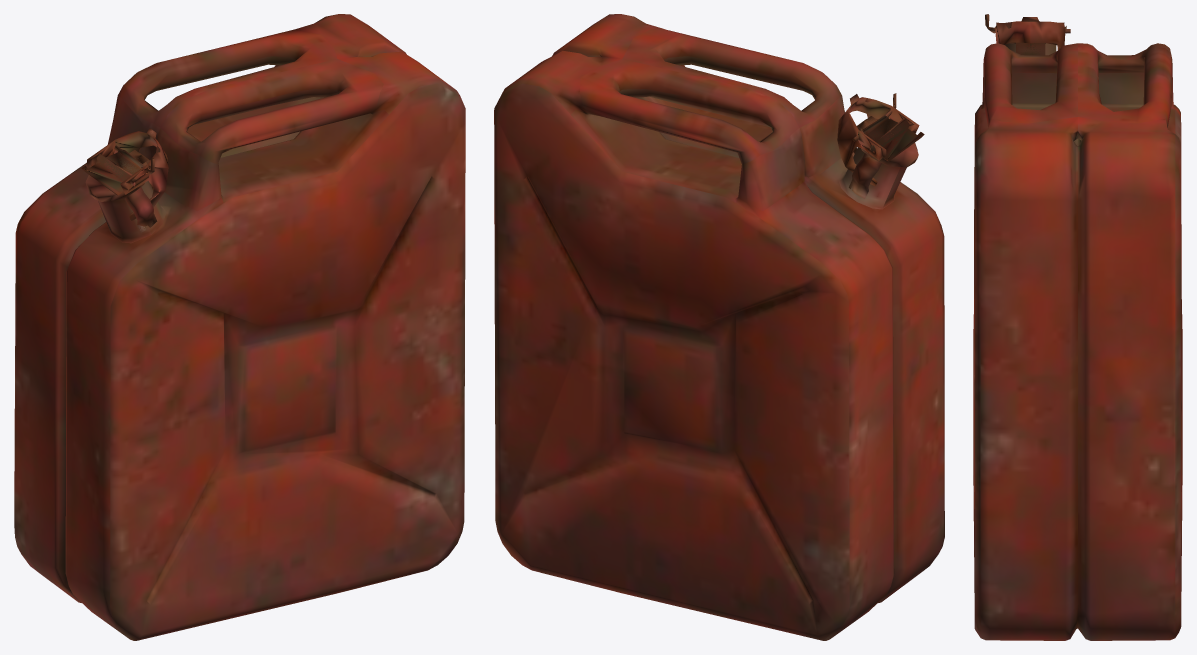
The model's file is jerrycan.glb.
The picture shows the model from 3 angles, left to right: view 1: azimuth 30°, elevation 25°; view 2: azimuth 150°, elevation 25°; view 3: azimuth 270°, elevation 25°; orthographic projection. The views are drawn at different scales.
Parts seen in each view (by area): view 1: metal_jerrycan; view 2: metal_jerrycan; view 3: metal_jerrycan.
Part boxes in pixels (left/top/right/bottom): metal_jerrycan: left=14, top=14, right=465, bottom=640; metal_jerrycan: left=494, top=14, right=944, bottom=640; metal_jerrycan: left=973, top=14, right=1182, bottom=640.
Bounding box in the file's own units: 0.3497 × 0.4549 × 0.1718.
1 material, 1 textured.
